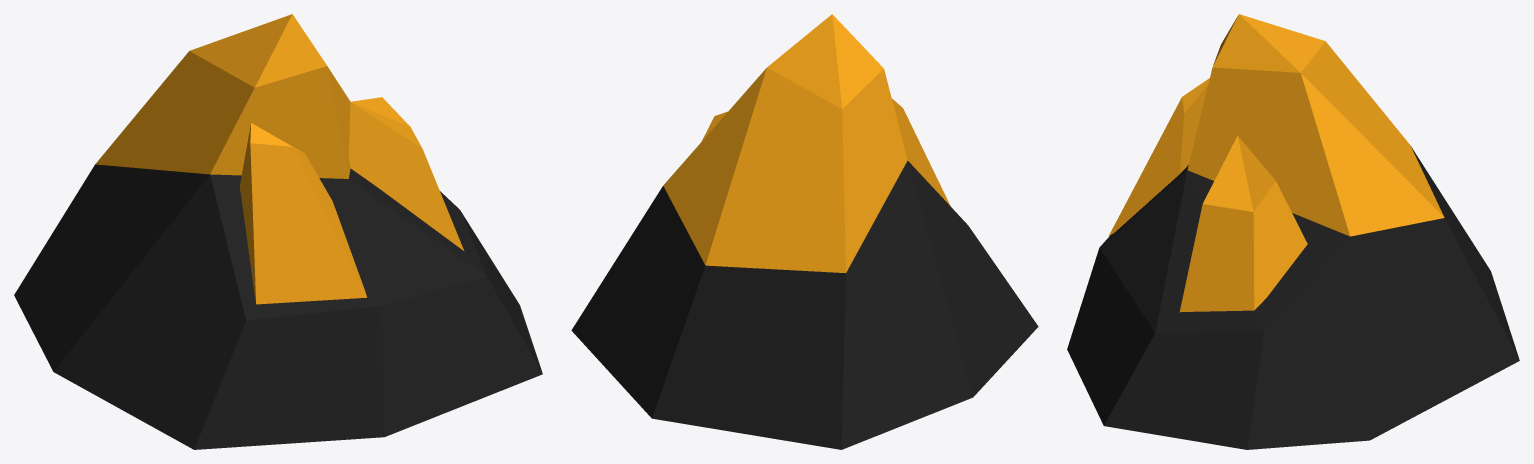
File: Gold.fbx
3 renders of one model, left to right at view 1: azimuth 30°, elevation 25°; view 2: azimuth 150°, elevation 25°; view 3: azimuth 270°, elevation 25°, orthographic. The views are drawn at different scales.
Visible parts, largest first — view 1: Gold; view 2: Gold; view 3: Gold.
Boxes of the visible parts, box(x1,y1,x2,y2) form: Gold: box(14, 14, 542, 449); Gold: box(571, 14, 1038, 449); Gold: box(1067, 14, 1519, 449).
Bounding box in the file's own units: 2.32 × 1.84 × 2.26.
